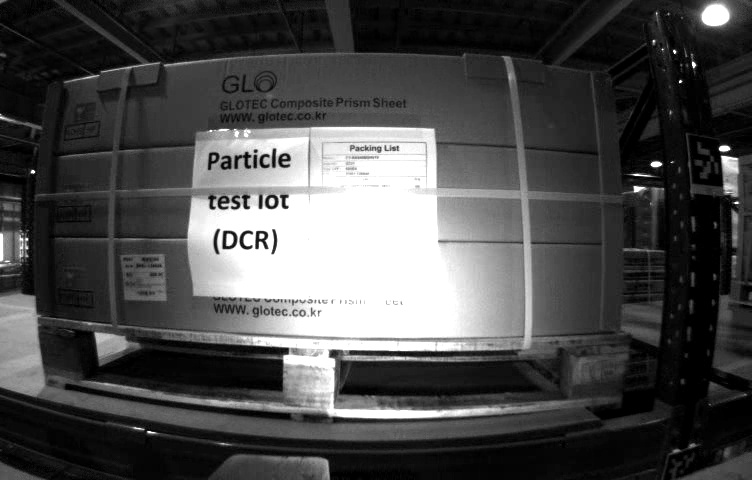True Barcode: (115, 252, 171, 301)
